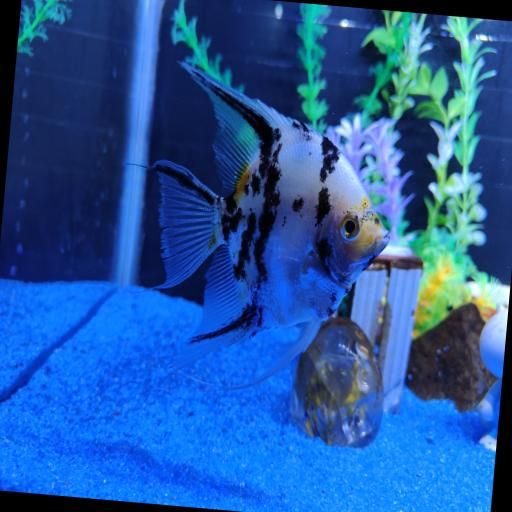Fish: (154, 63, 388, 388)
